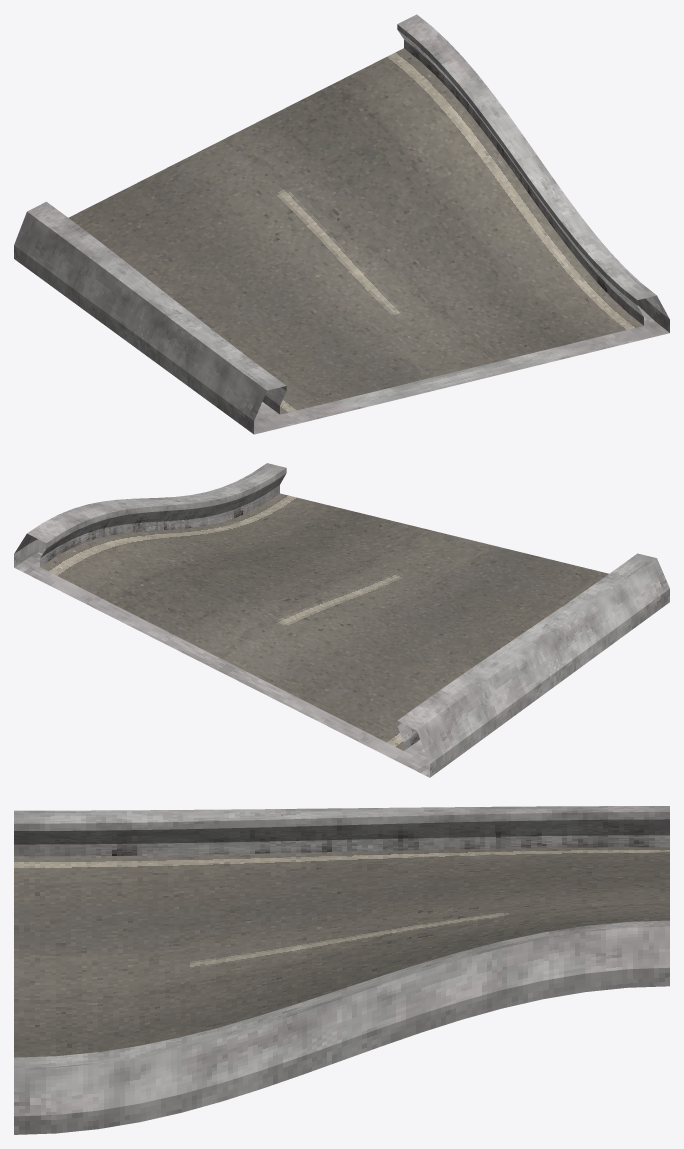
Rendered from straight1.glb.
3 renders of one model, top to bottom at view 1: azimuth 30°, elevation 25°; view 2: azimuth 150°, elevation 25°; view 3: azimuth 270°, elevation 25°, orthographic. The views are drawn at different scales.
Visible parts, largest first — view 1: road-Straight-Flat-HalfBankedLeft-Even-Center-Size1; view 2: road-Straight-Flat-HalfBankedLeft-Even-Center-Size1; view 3: road-Straight-Flat-HalfBankedLeft-Even-Center-Size1.
Part boxes in pixels (x1,y1,x2,y2): road-Straight-Flat-HalfBankedLeft-Even-Center-Size1: (14,14,669,434); road-Straight-Flat-HalfBankedLeft-Even-Center-Size1: (14,463,669,777); road-Straight-Flat-HalfBankedLeft-Even-Center-Size1: (14,806,669,1134).
Size of the model in its own units: 1 by 0.3359 by 1.
2 materials, 2 textured.
